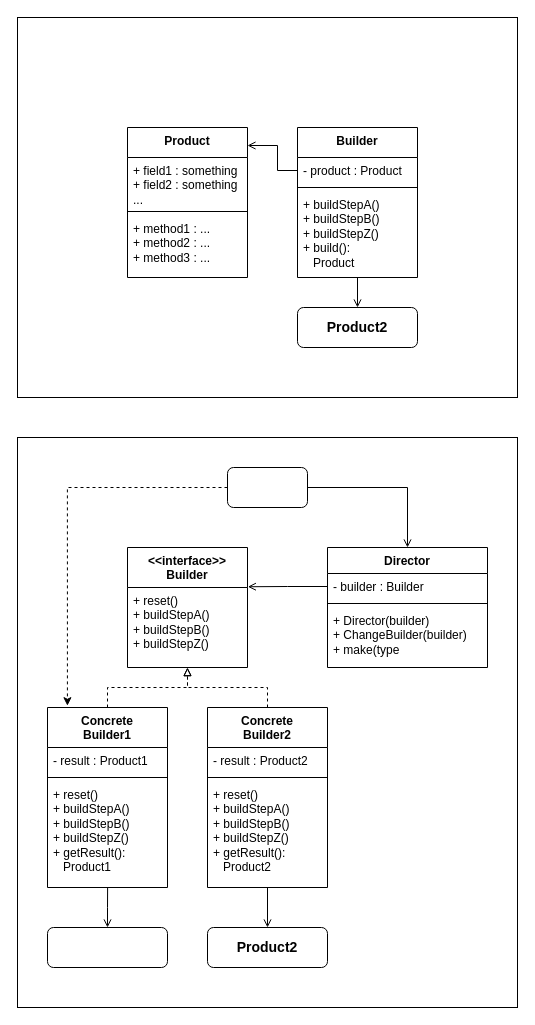
Image size: 535x1025. Some labels were removed from this diagram. The centre of each missing label's shape, as x and y in pixels:
"Client" belongs at (267,487).
"Product1" belongs at (107,947).
